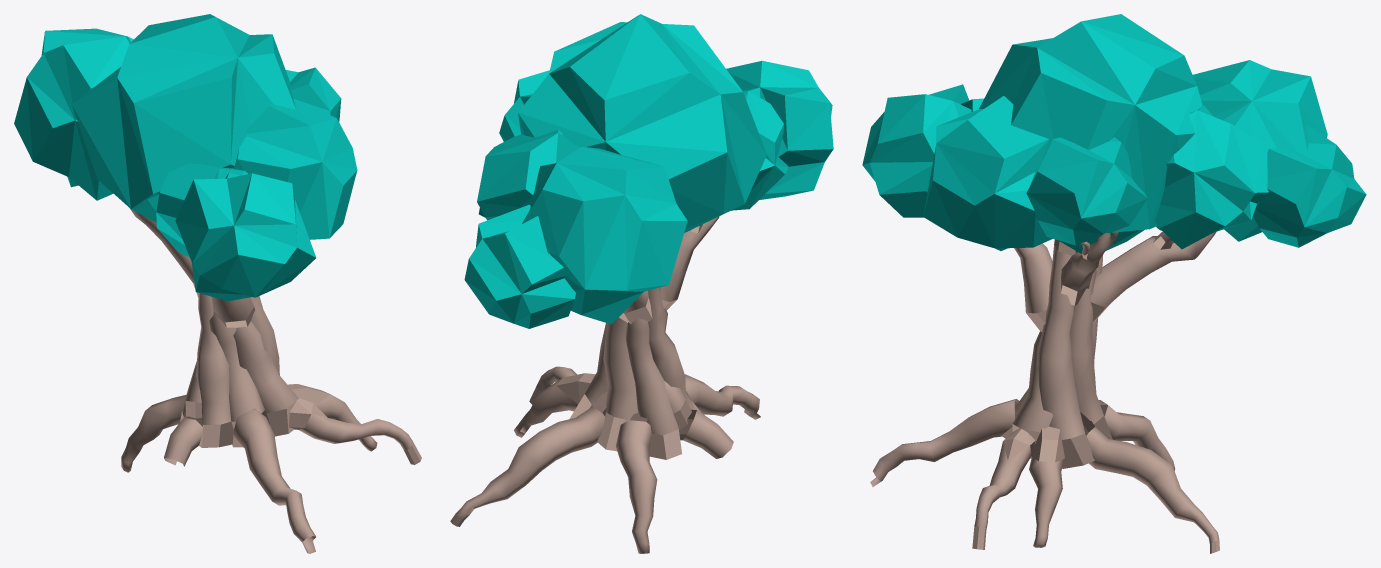
File: ripped_tree.dae
3 views of the same model, side by side, from view 1: azimuth 30°, elevation 25°; view 2: azimuth 150°, elevation 25°; view 3: azimuth 270°, elevation 25° (orthographic). The views are drawn at different scales.
Visible parts, largest first — view 1: mesh592643478; view 2: mesh592643478; view 3: mesh592643478.
Boxes of the visible parts, left/top/right/bottom form: mesh592643478: left=14, top=14, right=421, bottom=553; mesh592643478: left=450, top=14, right=833, bottom=553; mesh592643478: left=862, top=14, right=1366, bottom=553.
Size of the model in its own units: 0.4366 by 0.6958 by 0.7366.
